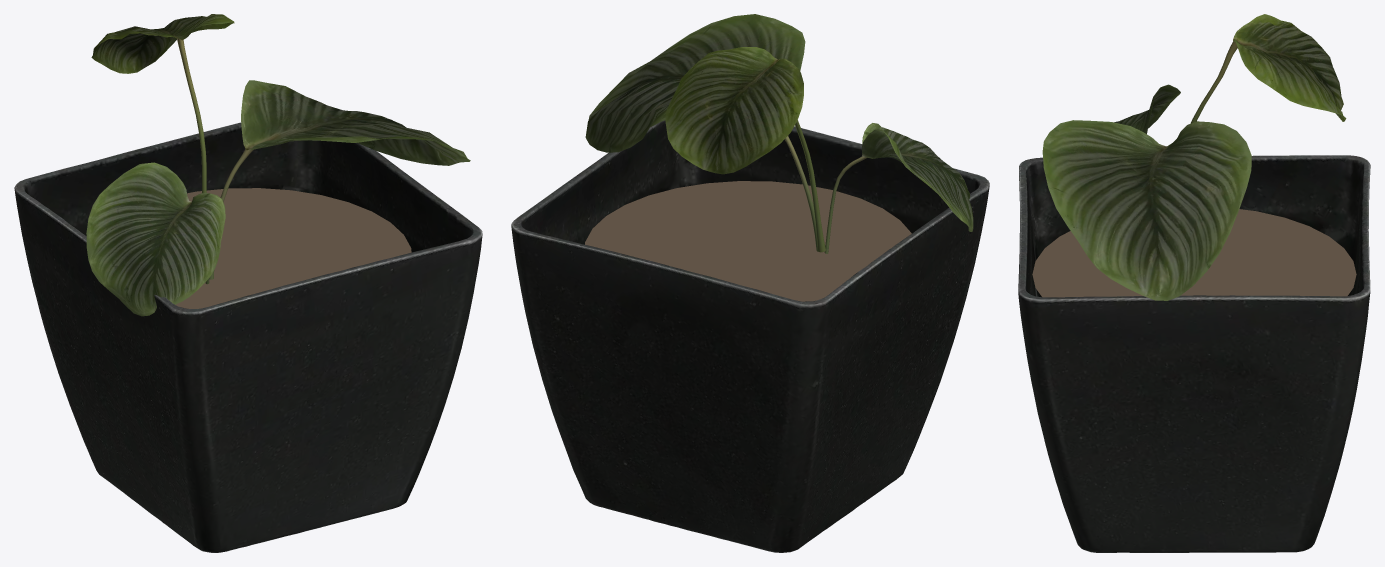
The model's file is ph-calathea-ebony.glb.
3 renders of one model, left to right at view 1: azimuth 30°, elevation 25°; view 2: azimuth 150°, elevation 25°; view 3: azimuth 270°, elevation 25°, orthographic. The views are drawn at different scales.
Visible parts, largest first — view 1: Ecoforms_Planter_Pot_QP6Ebony, calathea_orbifolia_01_d, soil; view 2: Ecoforms_Planter_Pot_QP6Ebony, calathea_orbifolia_01_d, soil; view 3: Ecoforms_Planter_Pot_QP6Ebony, calathea_orbifolia_01_d, soil.
Boxes of the visible parts, bbox=[...] form: Ecoforms_Planter_Pot_QP6Ebony: bbox=[14, 122, 482, 552]; calathea_orbifolia_01_d: bbox=[86, 14, 470, 316]; soil: bbox=[175, 188, 411, 308]; Ecoforms_Planter_Pot_QP6Ebony: bbox=[511, 120, 989, 552]; calathea_orbifolia_01_d: bbox=[585, 14, 973, 253]; soil: bbox=[585, 181, 911, 301]; Ecoforms_Planter_Pot_QP6Ebony: bbox=[1018, 155, 1370, 552]; calathea_orbifolia_01_d: bbox=[1042, 14, 1346, 300]; soil: bbox=[1032, 209, 1356, 297].
Size of the model in its own units: 0.2264 by 0.2686 by 0.1892.
Materials: 3 (2 with a texture image).
